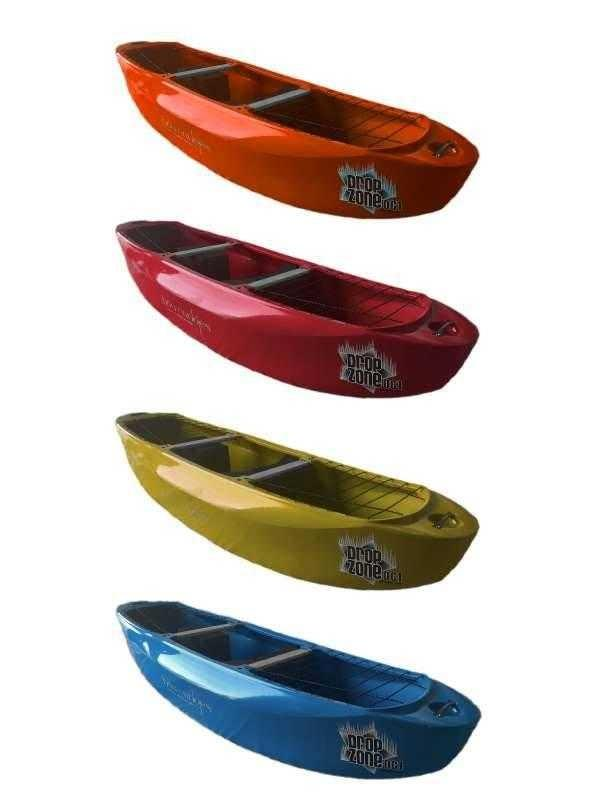kayak: (114, 600, 481, 782), (115, 219, 480, 401), (115, 41, 479, 222), (115, 412, 480, 592)
